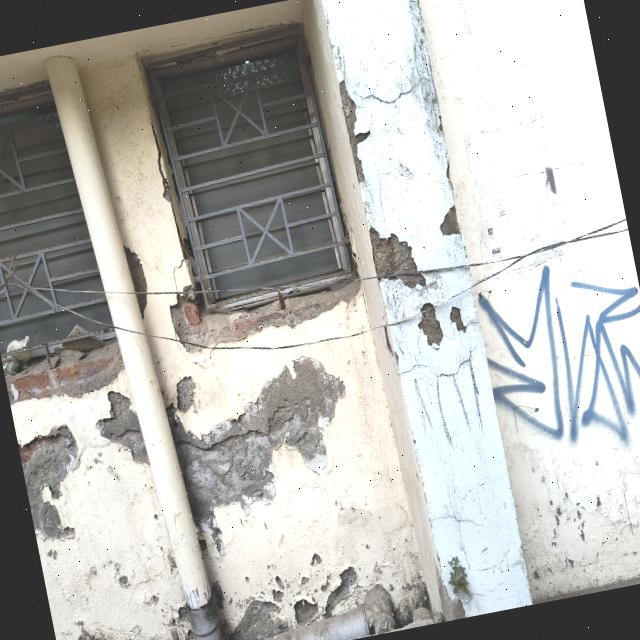Crack: (141, 102, 195, 294), (408, 349, 477, 390), (362, 78, 421, 115)
Graffiti: (476, 247, 571, 449), (552, 267, 640, 450)
Incomplete Plaster Work: (166, 346, 346, 561), (25, 421, 89, 566), (66, 595, 187, 640), (212, 572, 288, 640), (92, 375, 146, 470), (289, 558, 368, 622), (433, 572, 476, 619), (43, 492, 79, 547)
Paint Peeling: (355, 206, 445, 289), (337, 71, 376, 194), (432, 180, 465, 247), (406, 297, 451, 343)
Scaling: (171, 263, 364, 358), (2, 335, 125, 410)
pollution -moisture induced blackening: (526, 471, 640, 601), (395, 0, 441, 165), (448, 532, 480, 603)
